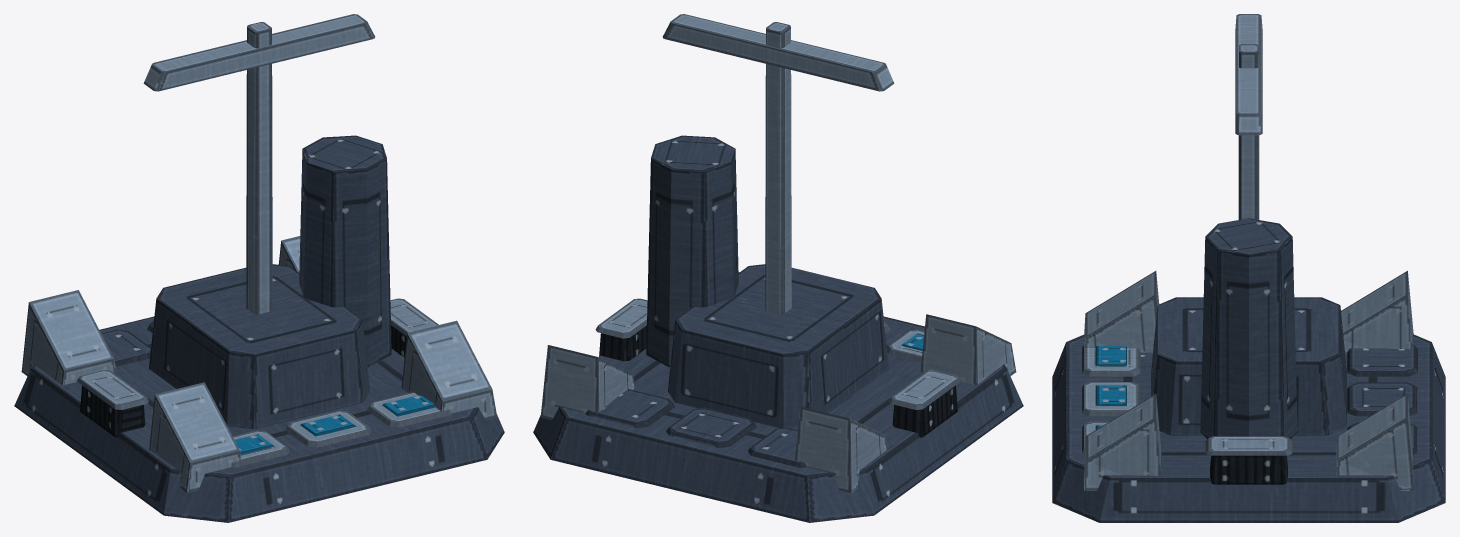
File: building-oil.fbx
3 views of the same model, side by side, from view 1: azimuth 30°, elevation 25°; view 2: azimuth 150°, elevation 25°; view 3: azimuth 270°, elevation 25° (orthographic).
Parts seen in each view (by area): view 1: building-oil; view 2: building-oil; view 3: building-oil.
Boxes of the visible parts, box(x1,y1,x2,y2) form: building-oil: box(14, 14, 504, 522); building-oil: box(533, 14, 1023, 522); building-oil: box(1052, 14, 1445, 522).
Bounding box in the file's own units: 1456 × 1600 × 1456.
Materials: 1 (1 with a texture image).
